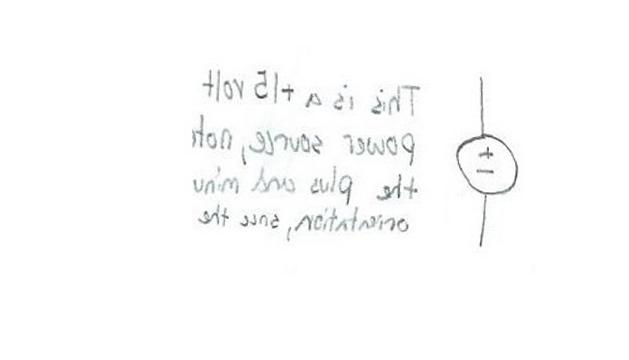Battery: (438, 116, 532, 209)
